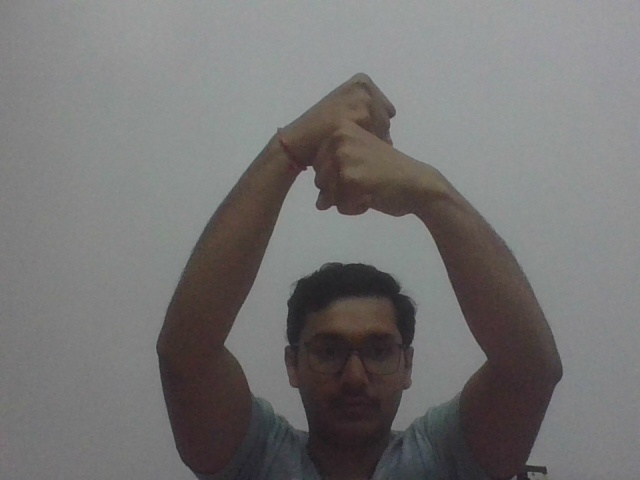G: (305, 70, 424, 221)
